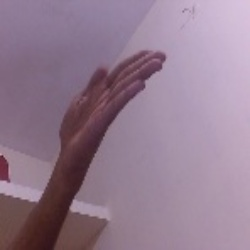hand: (46, 44, 171, 162)
